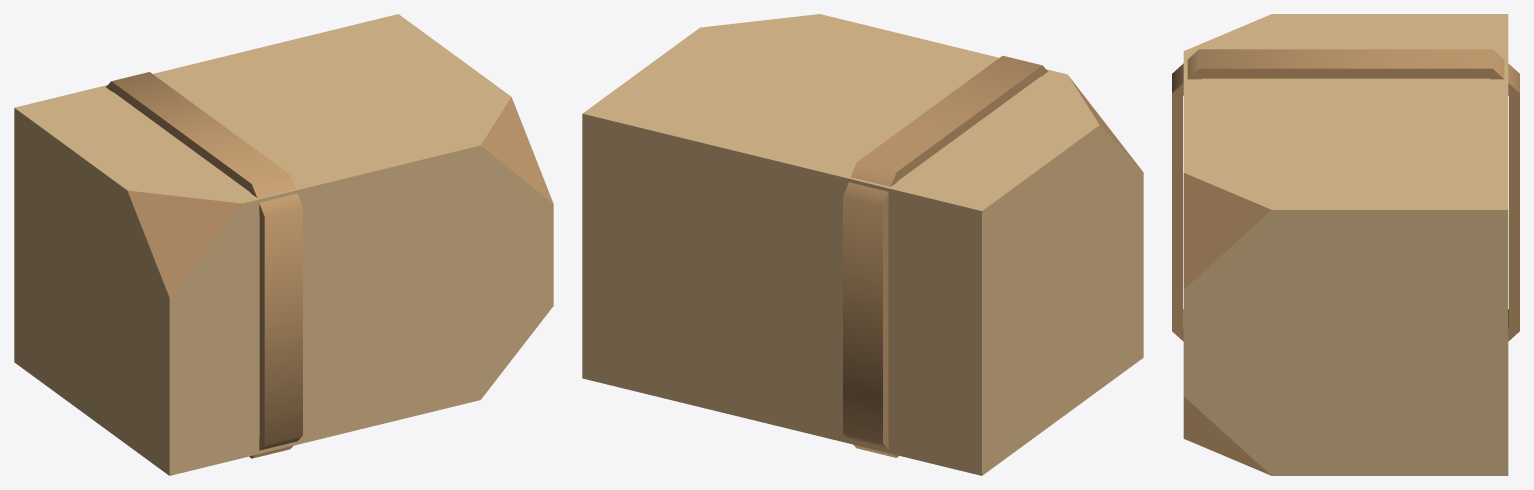
File: stone-block.lod1.glb
The picture shows the model from 3 angles, left to right: view 1: azimuth 30°, elevation 25°; view 2: azimuth 150°, elevation 25°; view 3: azimuth 270°, elevation 25°; orthographic projection. The views are drawn at different scales.
Parts seen in each view (by area): view 1: stone-block_lod1; view 2: stone-block_lod1; view 3: stone-block_lod1.
Part boxes in pixels (box(x1,y1,x2,y2)): stone-block_lod1: box(14, 14, 553, 475); stone-block_lod1: box(582, 14, 1143, 475); stone-block_lod1: box(1172, 14, 1519, 475).
Bounding box in the file's own units: 0.6 × 0.41 × 0.45.
